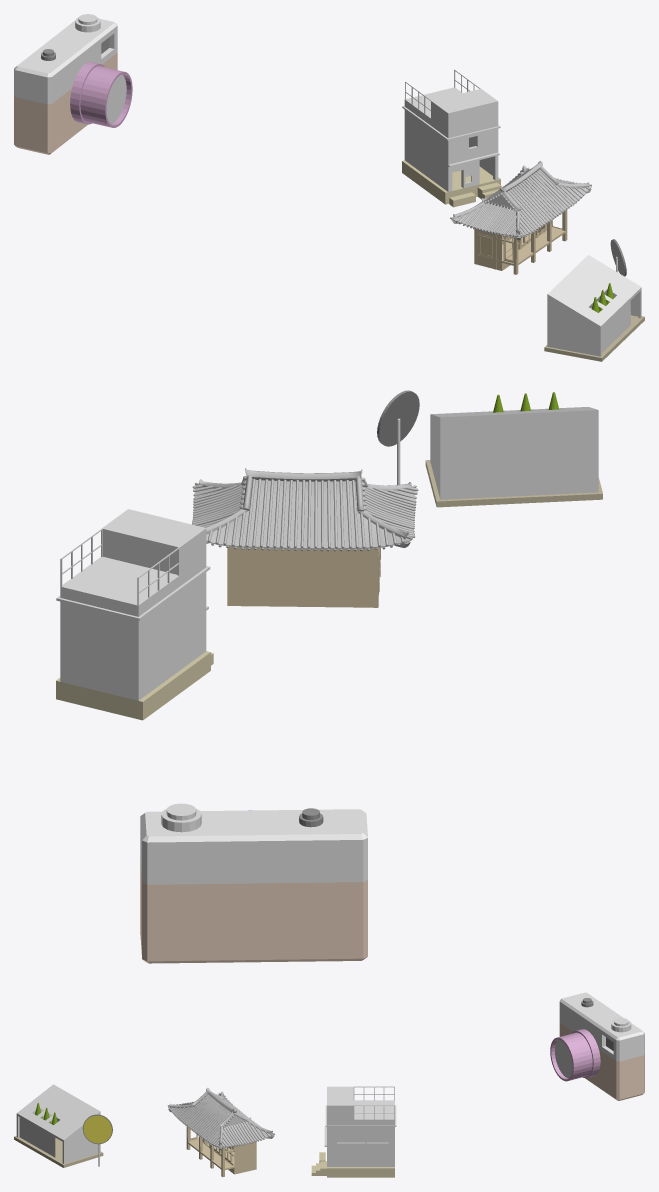
Rendered from iksun2.gltf.
3 renders of one model, top to bottom at view 1: azimuth 30°, elevation 25°; view 2: azimuth 150°, elevation 25°; view 3: azimuth 270°, elevation 25°, orthographic. The views are drawn at different scales.
Visible parts, largest first — view 1: Cube.013, Cube, Cube.006, Plane001, Cylinder, Box001, Cube.009, Cube.007; view 2: Cube, Cube.013, Plane001, Cube.006, Box001, Cube.009, Cube.007, Cylinder.009, Cylinder.001; view 3: Cube.013, Cube, Cube.006, Plane001, Cylinder, Box001, Cube.009, Cylinder.009, Cube.007.
Boxes of the visible parts, left/top/right/bottom form: Cube.013: left=402, top=87, right=500, bottom=191; Cube: left=14, top=19, right=117, bottom=154; Cube.006: left=547, top=255, right=641, bottom=356; Plane001: left=450, top=161, right=591, bottom=240; Cylinder: left=70, top=61, right=132, bottom=127; Box001: left=474, top=210, right=567, bottom=274; Cube.009: left=402, top=160, right=500, bottom=204; Cube.007: left=544, top=307, right=644, bottom=361; Cube: left=140, top=809, right=367, bottom=963; Cube.013: left=56, top=509, right=210, bottom=700; Plane001: left=192, top=468, right=418, bottom=551; Cube.006: left=430, top=407, right=598, bottom=499; Box001: left=227, top=546, right=380, bottom=607; Cube.009: left=56, top=651, right=210, bottom=720; Cube.007: left=425, top=460, right=602, bottom=507; Cylinder.009: left=377, top=390, right=419, bottom=446; Cylinder.001: left=161, top=803, right=201, bottom=832; Cube.013: left=324, top=1086, right=396, bottom=1166; Cube: left=559, top=992, right=644, bottom=1100; Cube.006: left=16, top=1084, right=100, bottom=1163; Plane001: left=167, top=1087, right=274, bottom=1150; Cylinder: left=550, top=1029, right=600, bottom=1081; Box001: left=186, top=1127, right=256, bottom=1176; Cube.009: left=327, top=1167, right=394, bottom=1177; Cylinder.009: left=82, top=1114, right=112, bottom=1144; Cube.007: left=14, top=1136, right=103, bottom=1167.
Bounding box in the file's own units: 31.03 × 7.84 × 63.05.
